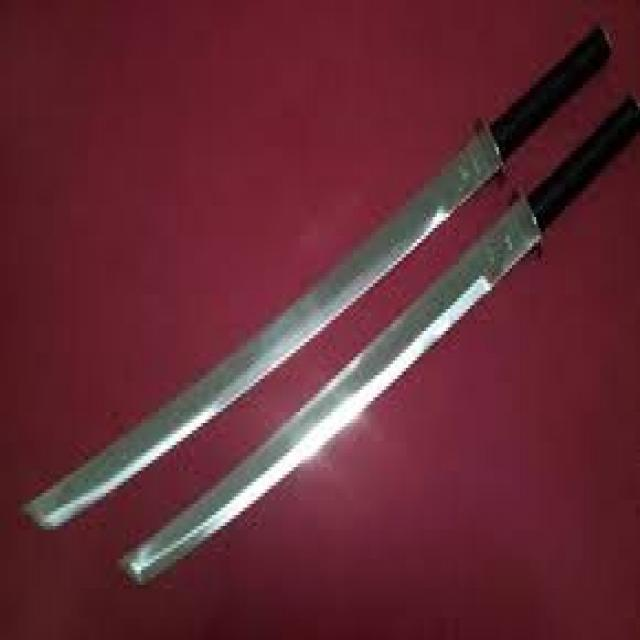long sword: (21, 19, 619, 526), (118, 92, 640, 593)
